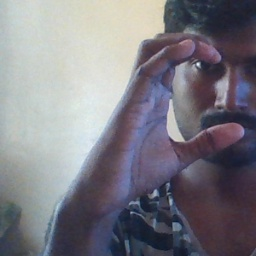C: (122, 27, 246, 163)
